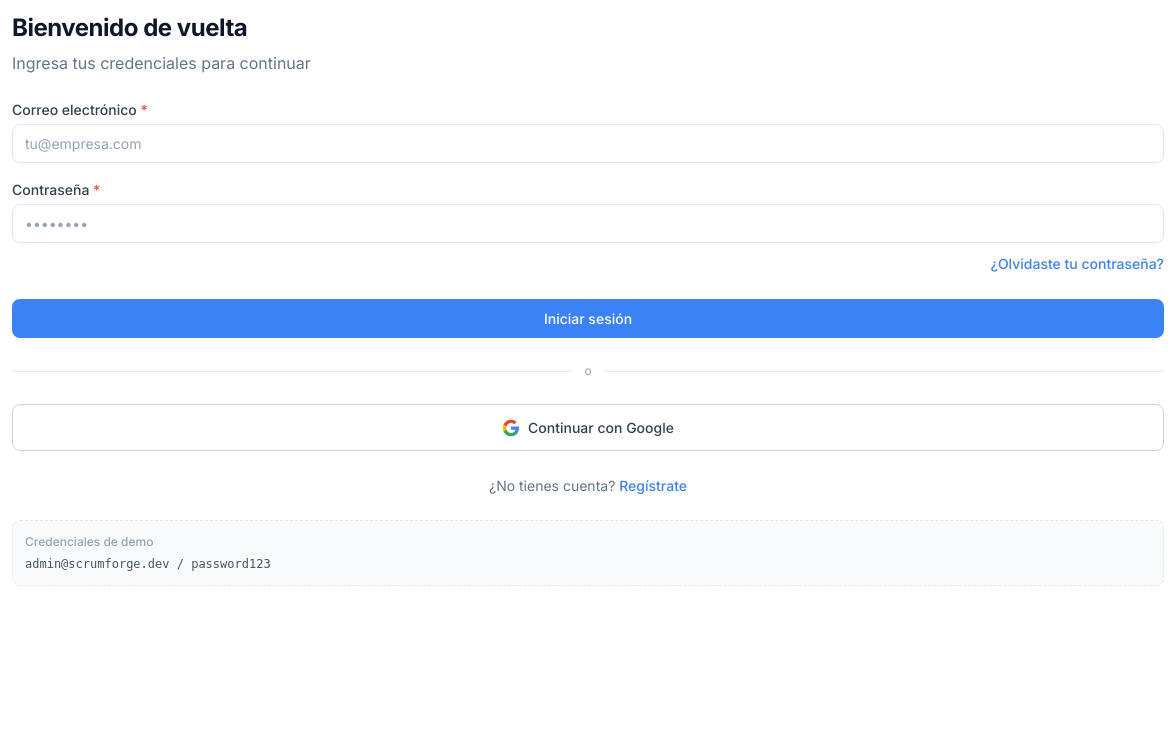
Test case: LoginForm › clears credential error when user edits the email
Type "user@test.com" into the field labelled "Correo electrónico *" at coordinates (588, 144), box x1=12 y1=124 x2=1164 y2=163
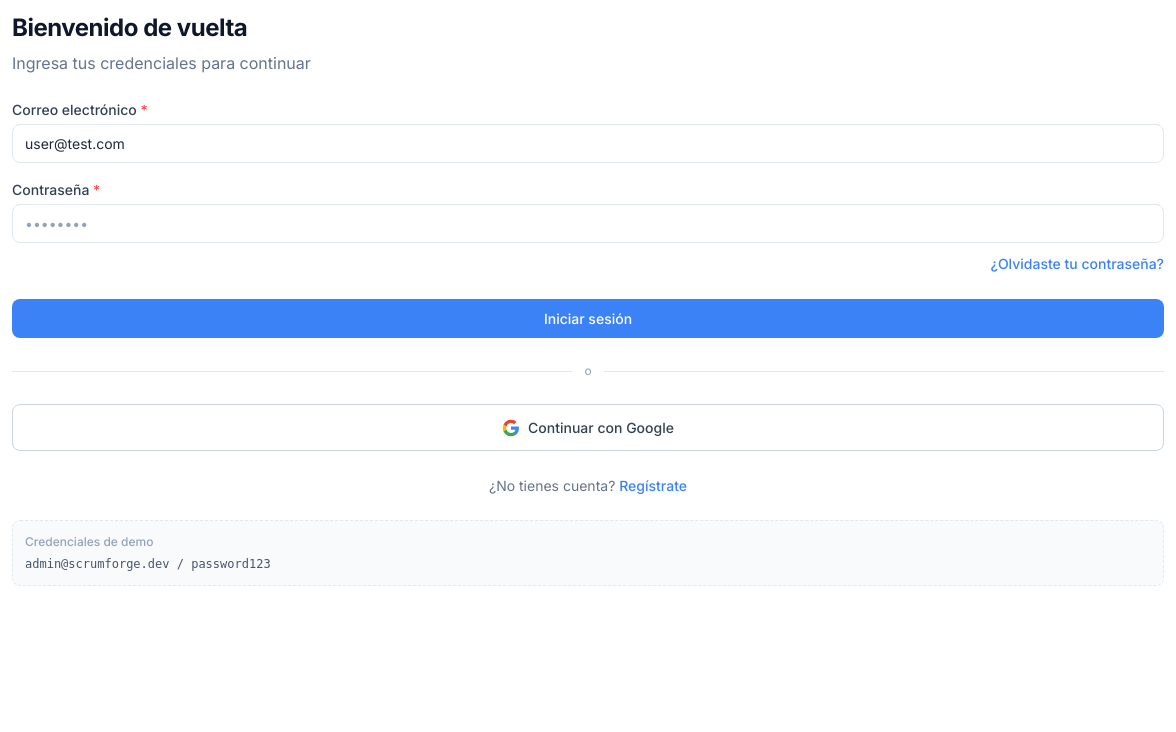
Type "wrongpass" into the password field labelled "Contraseña *" at coordinates (588, 224), box x1=12 y1=204 x2=1164 y2=243
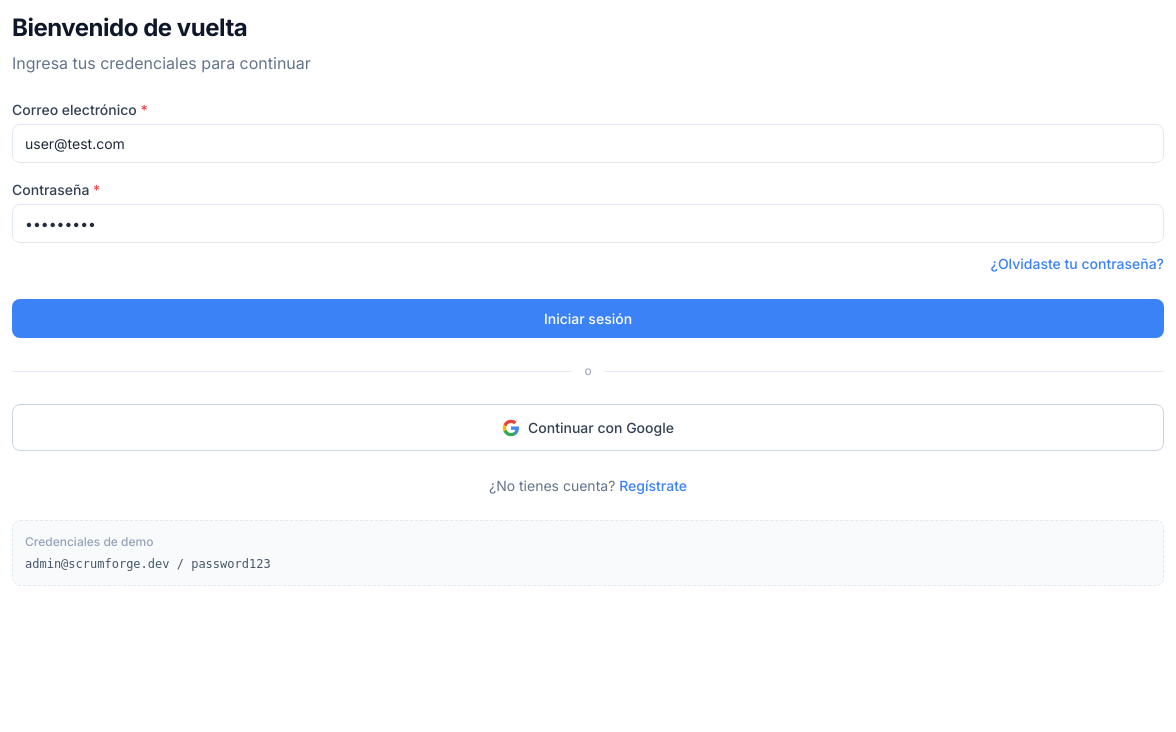
Click the button "Iniciar sesión" at coordinates (588, 319), box x1=12 y1=299 x2=1164 y2=338
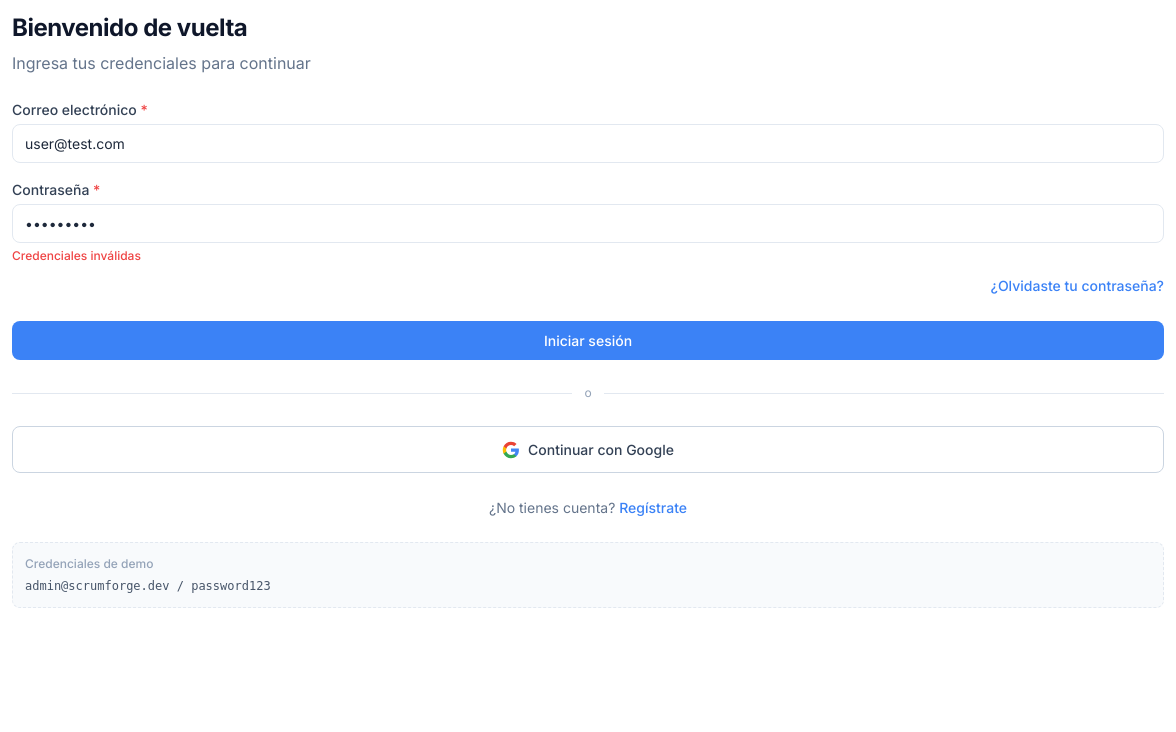
expect the text "Credenciales inválidas" is shown: met, box x1=12 y1=248 x2=141 y2=263
Replace the text in the field labelled "Correo electrónico *" with "other@test.com" at coordinates (588, 144), box x1=12 y1=124 x2=1164 y2=163
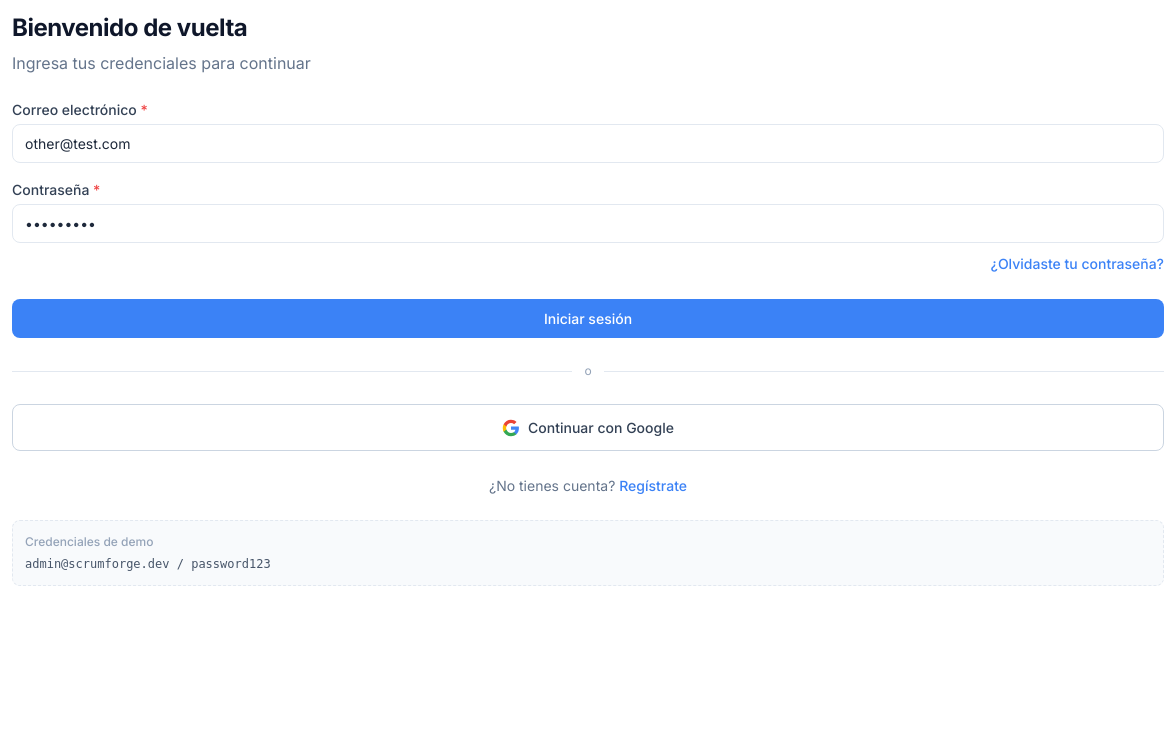
expect the text "Credenciales inválidas" is gone: met
